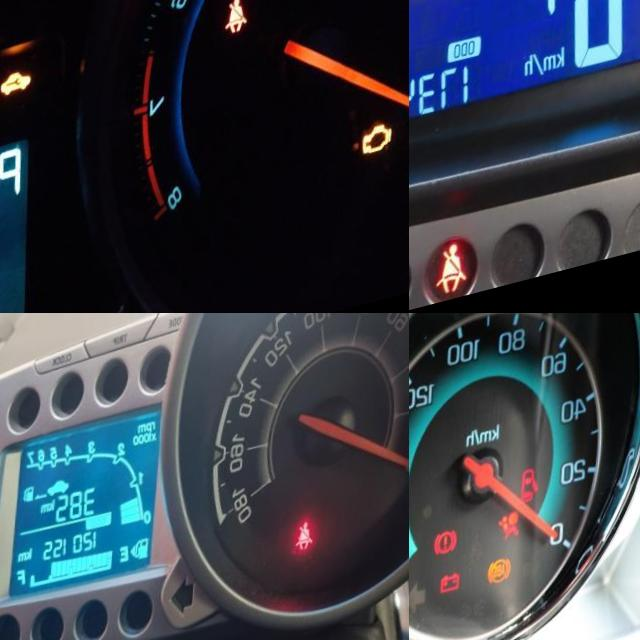Doors: (525, 490, 545, 527)
